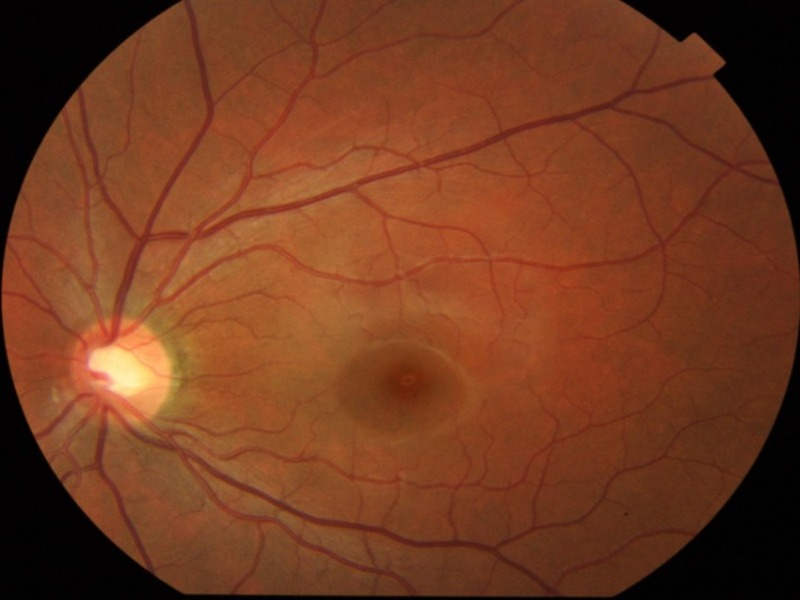Optic Cup: (90, 344, 151, 394)
Optic Disc: (70, 318, 172, 424)
